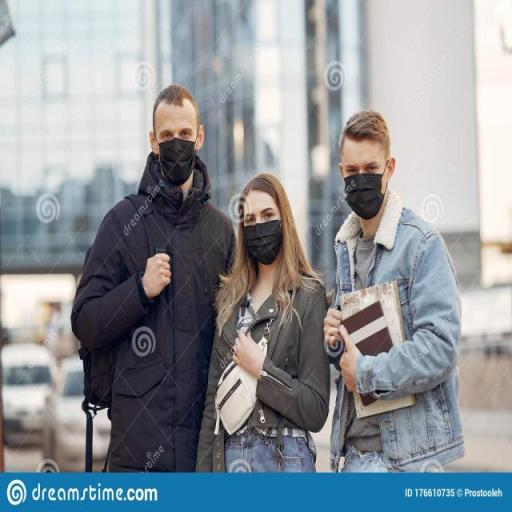person: (73, 87, 238, 463), (327, 113, 472, 475), (205, 174, 329, 471)
